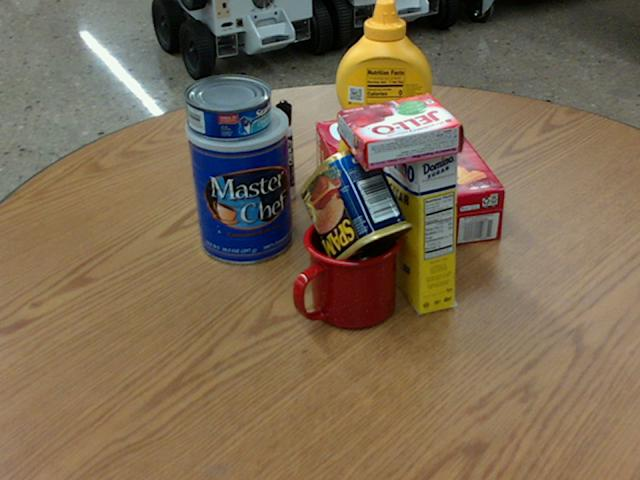cracker_box: (314, 107, 502, 257)
gelatin_box: (338, 93, 462, 169)
large_marker: (274, 102, 295, 201)
master_chef_can: (185, 99, 294, 263)
mug: (289, 212, 400, 330)
mustard_bottle: (336, 0, 431, 191)
potted_meat_can: (299, 146, 412, 271)
sugar_box: (380, 106, 456, 316)
tomato_soup_can: (358, 41, 418, 147)
tuna_fish_can: (183, 74, 270, 139)
